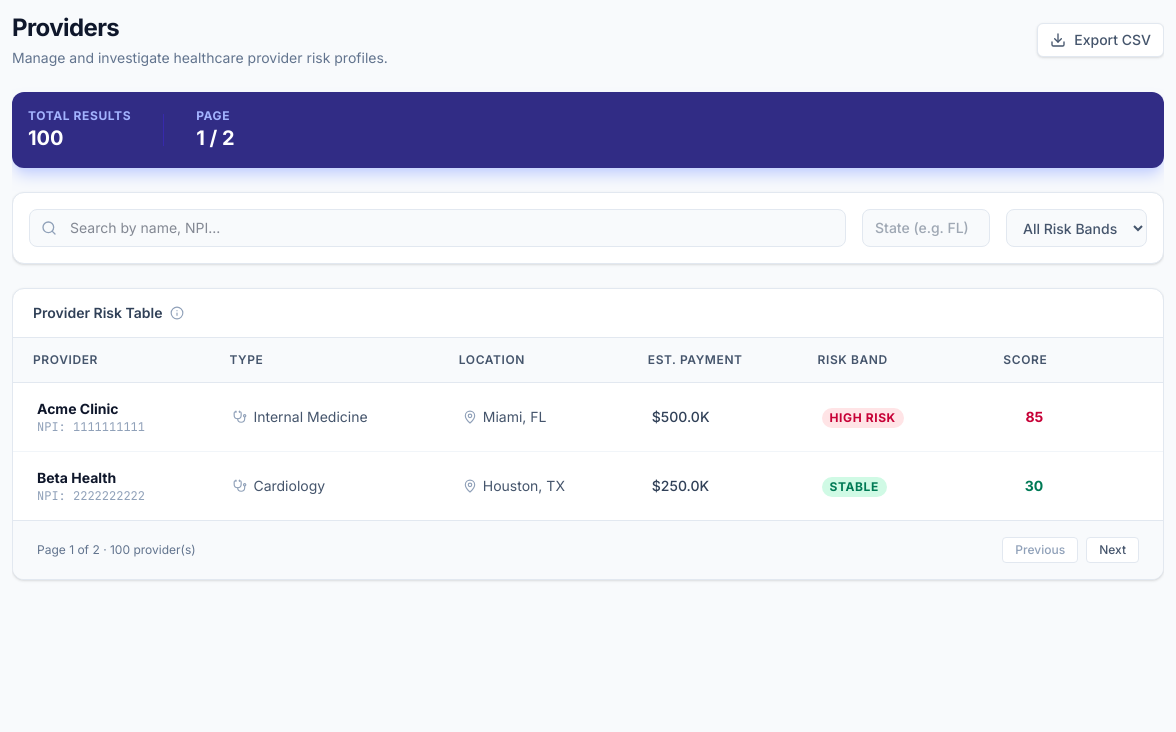
Test case: Providers › clicking Previous goes back a page when page > 1
Expected: the text "Acme Clinic" is shown, [37,400,118,417]
# Navigate to page 2 first
Click the button "Next" at (1113, 550), box [1086,537,1139,563]
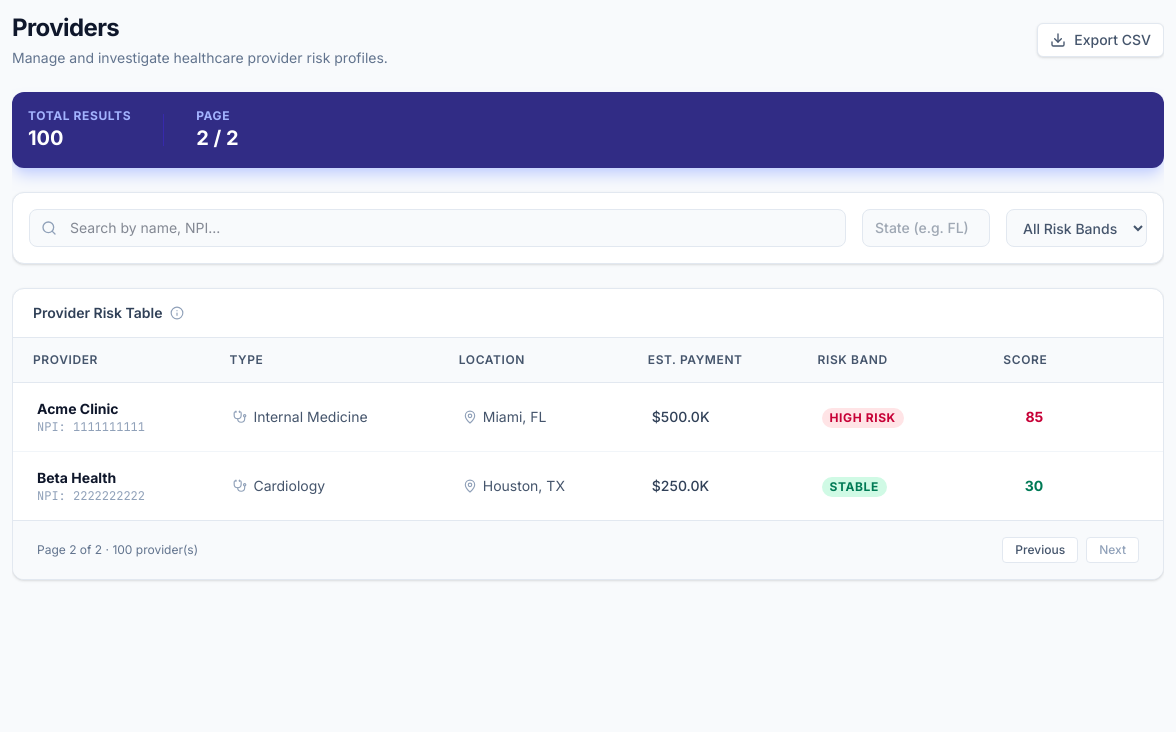
Expected: the text "Page 2 of 2 · 100 provider(s)" is shown, [37,542,198,558]
# Now click Previous — page state goes from 2 back to 1
Click the button "Previous" at (1040, 550), box [1002,537,1078,563]
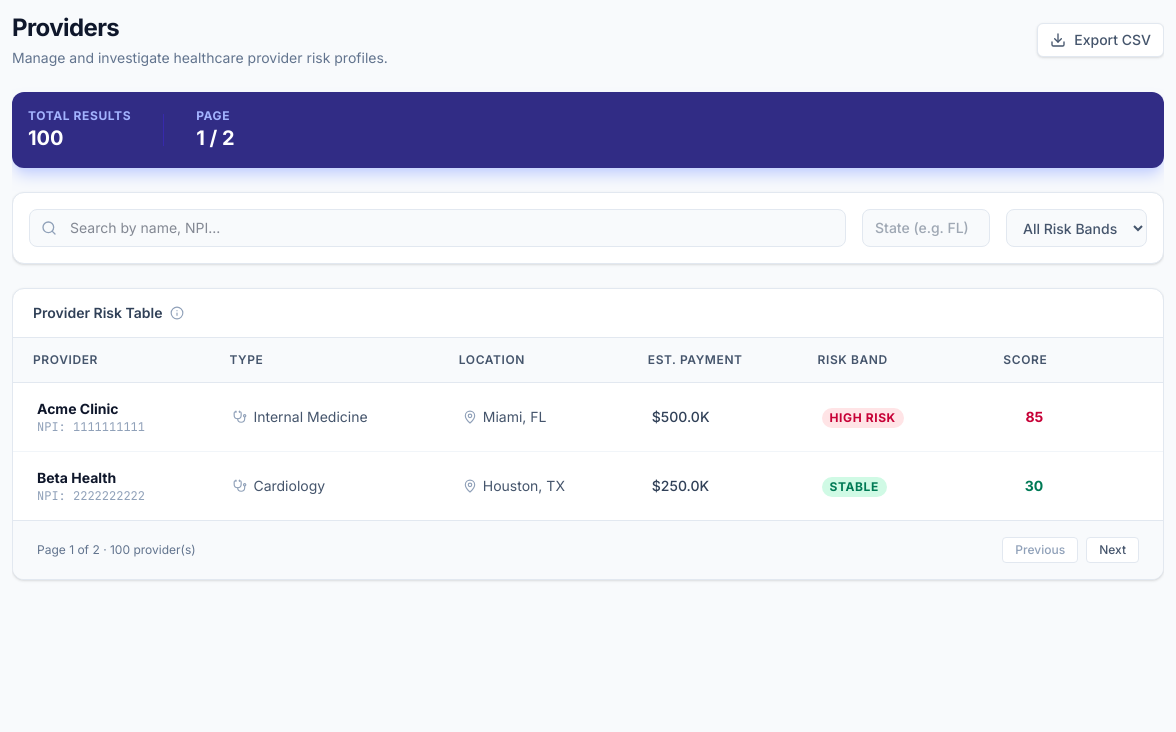
Expected: the text "Page 1 of 2 · 100 provider(s)" is shown, [37,542,196,558]
